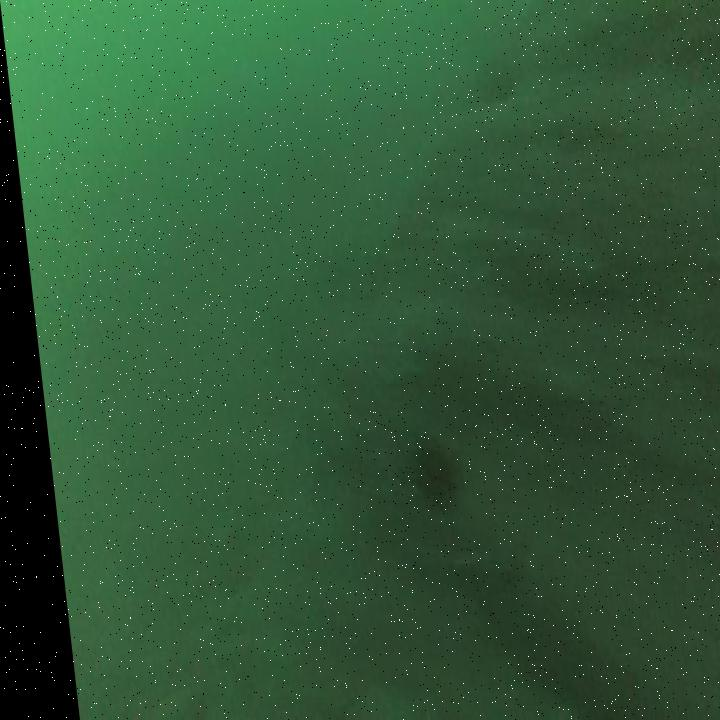echinus: (392, 429, 449, 519)
